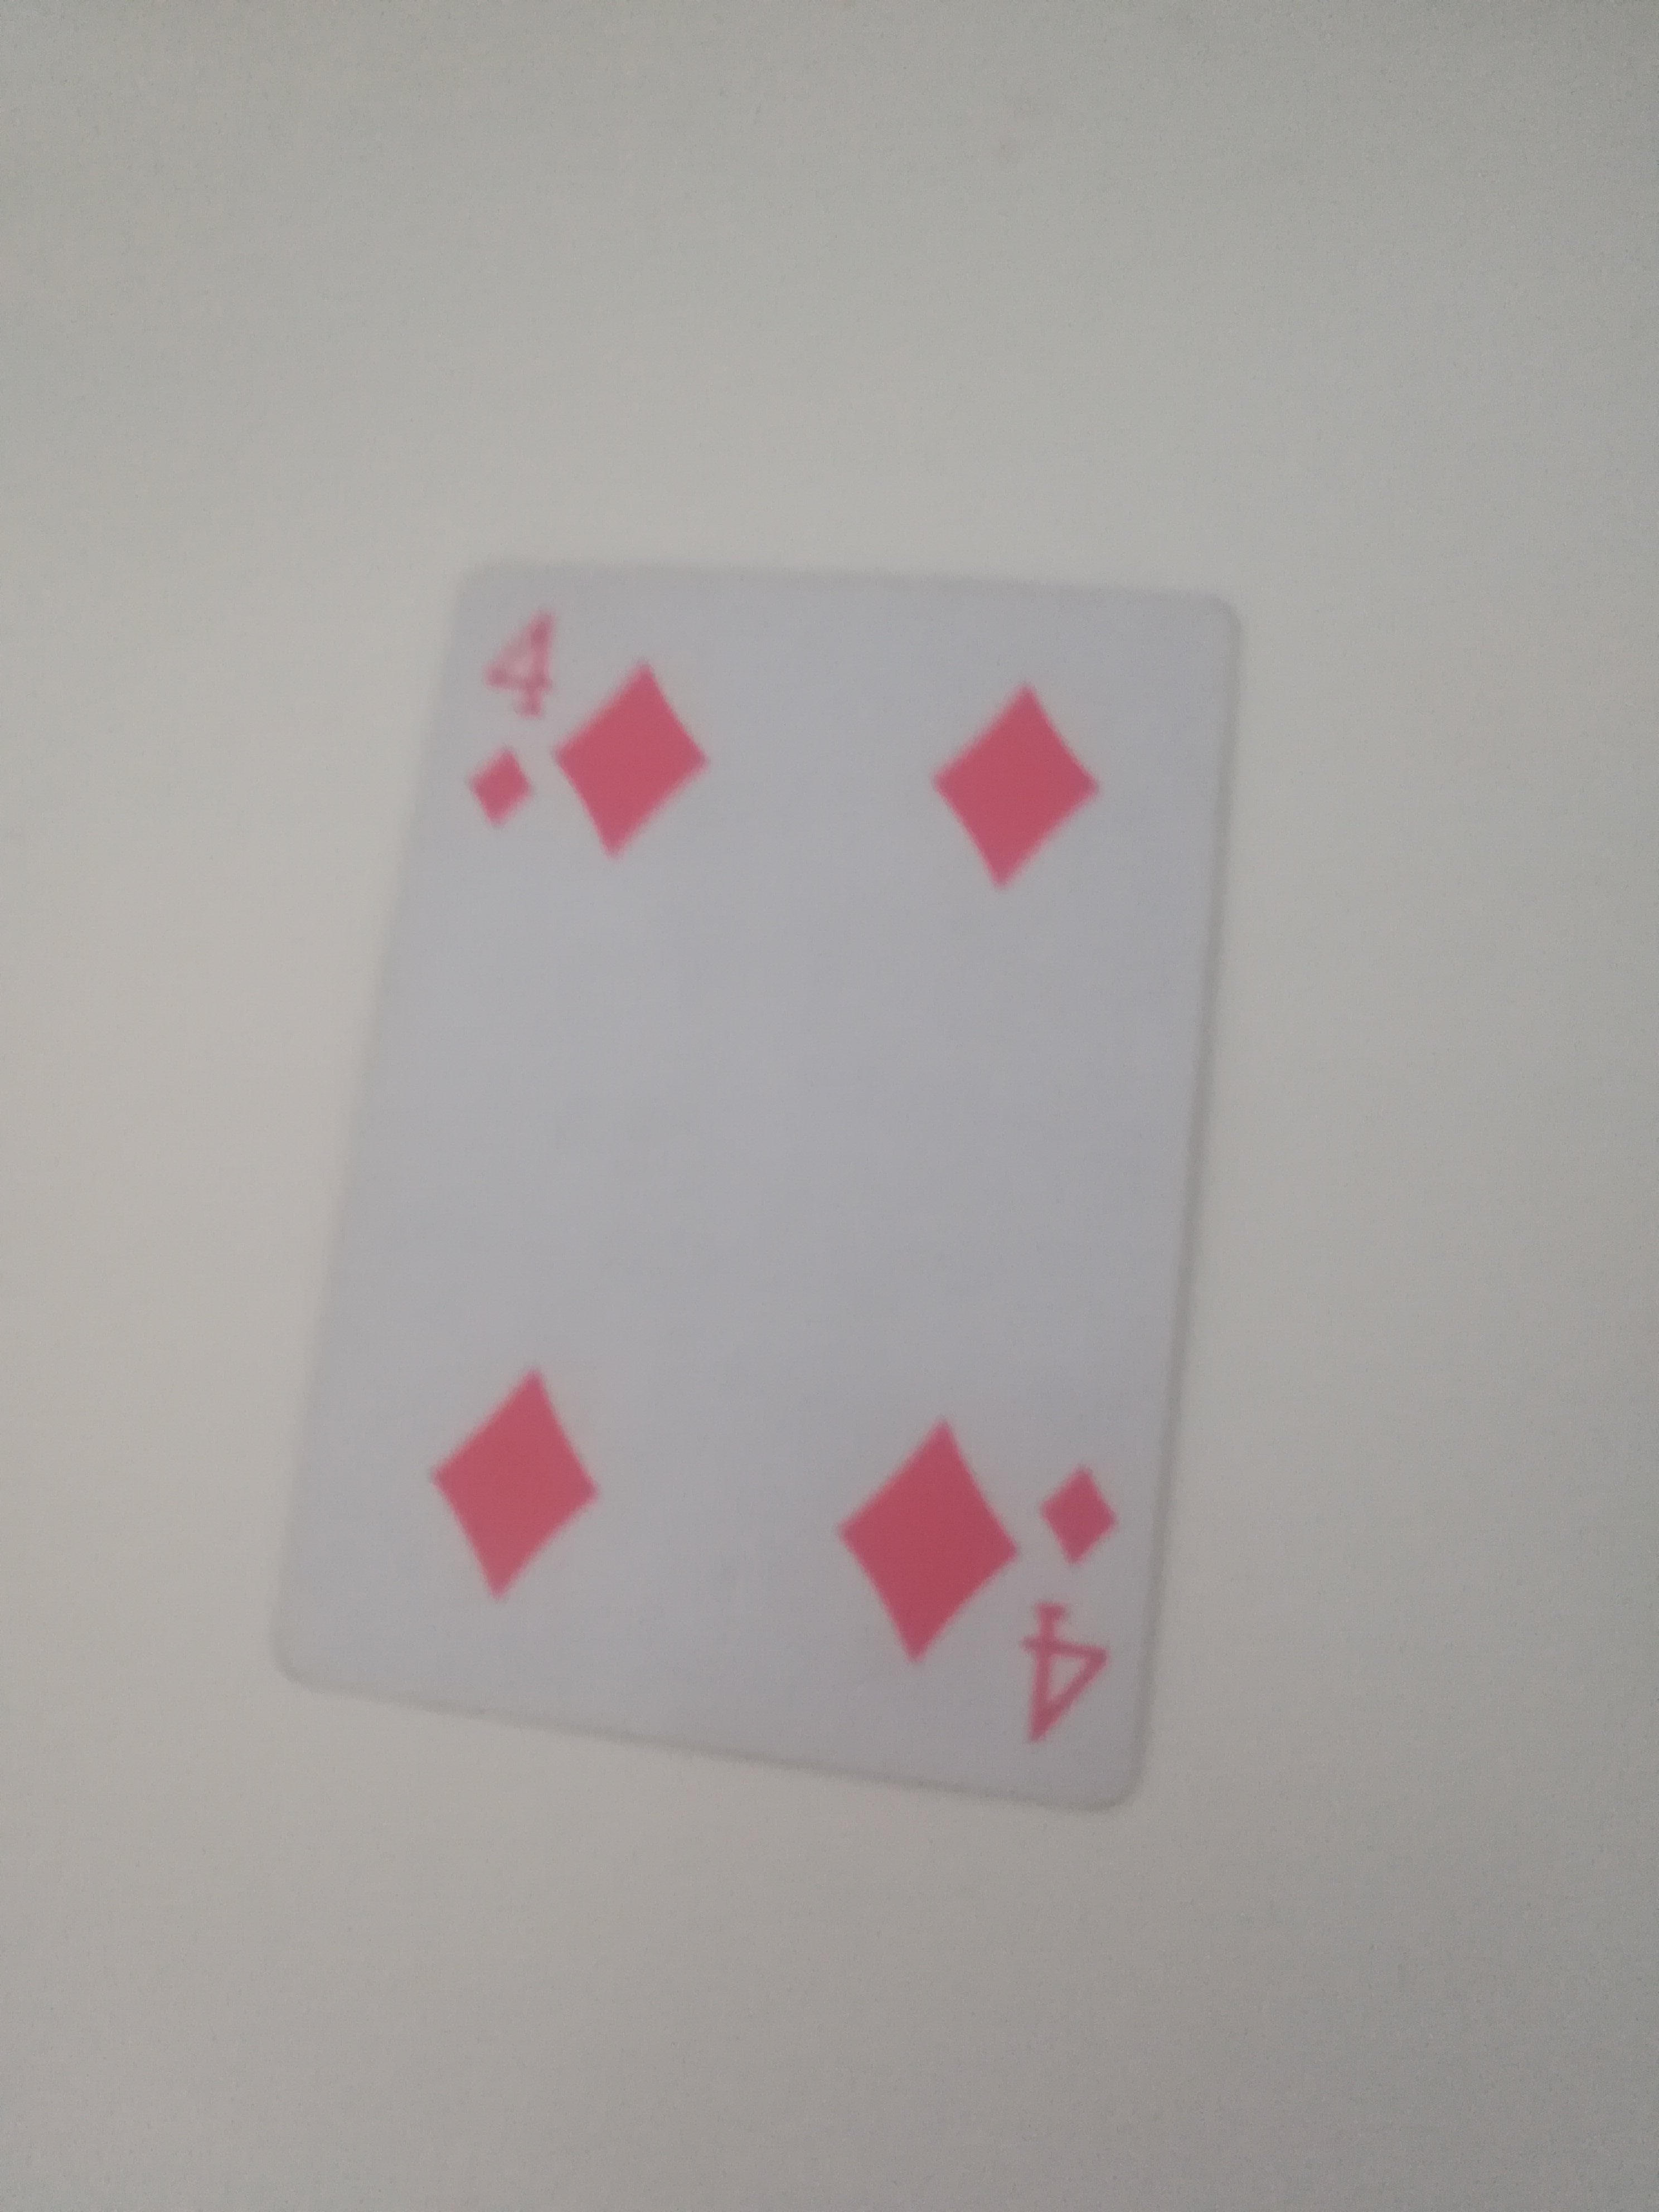4D: (256, 559, 1255, 1811)
